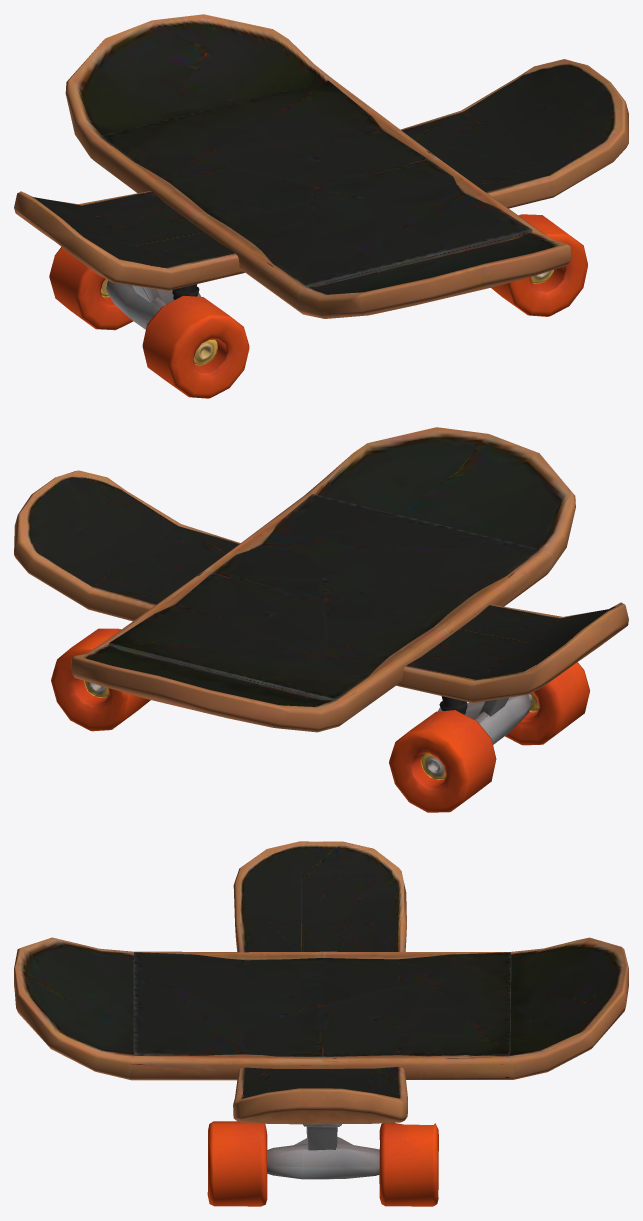
File: skateboard.glb
3 renders of one model, top to bottom at view 1: azimuth 30°, elevation 25°; view 2: azimuth 150°, elevation 25°; view 3: azimuth 270°, elevation 25°, orthographic. The views are drawn at different scales.
Visible parts, largest first — view 1: geometry_0; view 2: geometry_0; view 3: geometry_0.
Boxes of the visible parts, left/top/right/bottom form: geometry_0: left=14, top=14, right=628, bottom=398; geometry_0: left=14, top=427, right=628, bottom=812; geometry_0: left=14, top=841, right=628, bottom=1206.
Size of the model in its own units: 0.9776 by 0.2912 by 1.
Materials: 1 (1 with a texture image).
